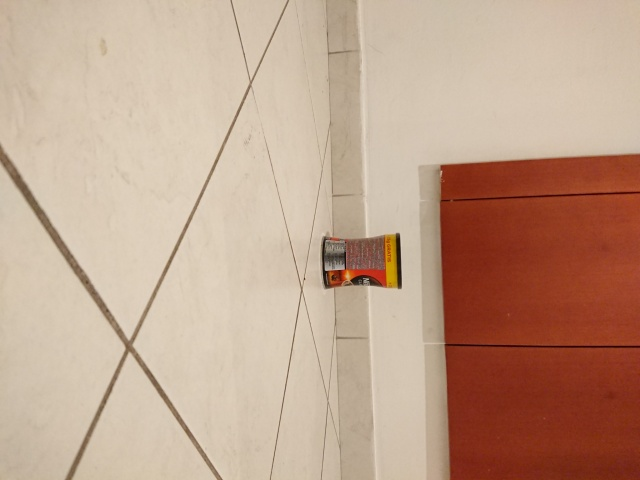Nescafe Classic 225g: (318, 230, 405, 292)
